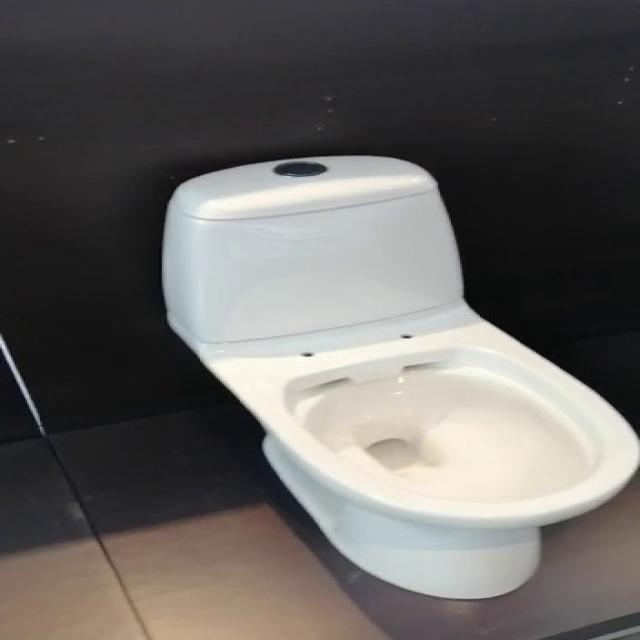toilet: (154, 141, 640, 606)
